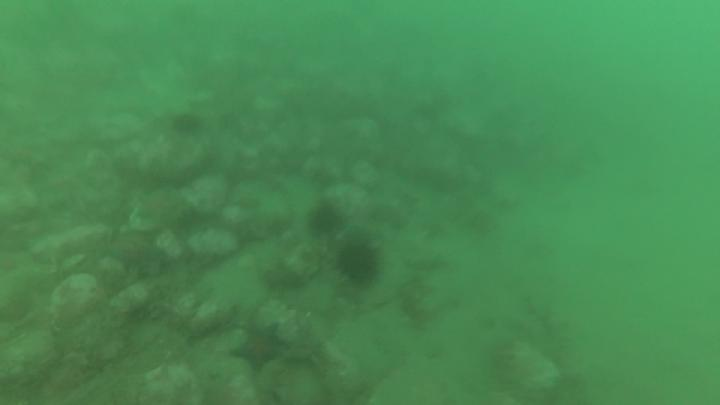echinus: (335, 239, 386, 290), (303, 200, 347, 242), (171, 110, 205, 139)
starfish: (232, 322, 288, 376), (110, 234, 165, 280), (131, 188, 185, 230)
